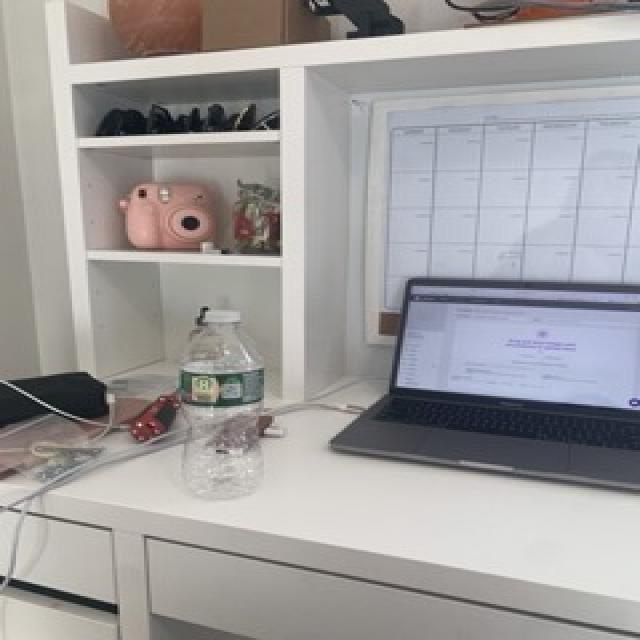water_bottle: (172, 309, 273, 501)
